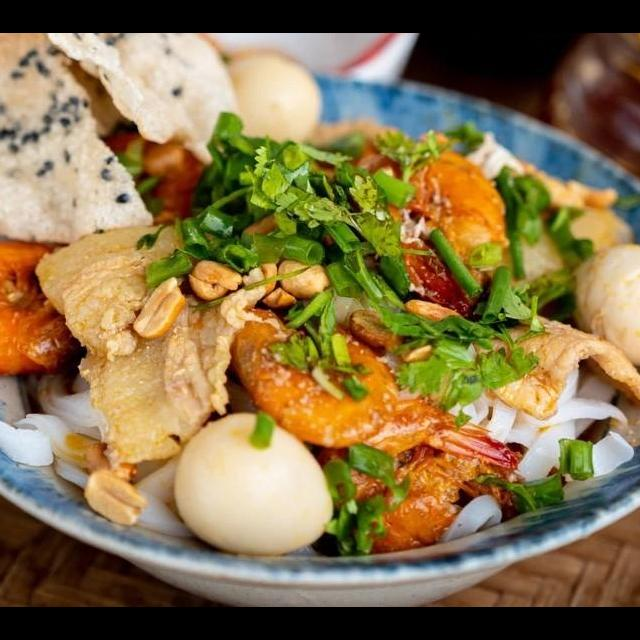banh da: (0, 34, 158, 249), (28, 34, 252, 183)
mi: (426, 356, 640, 547), (0, 365, 195, 540)
thit heo: (29, 219, 272, 469), (458, 309, 640, 426)
tom: (312, 390, 526, 563), (336, 132, 512, 327), (222, 298, 400, 451), (0, 233, 97, 376)
trung: (168, 405, 336, 559), (210, 46, 326, 151), (562, 238, 640, 370)
